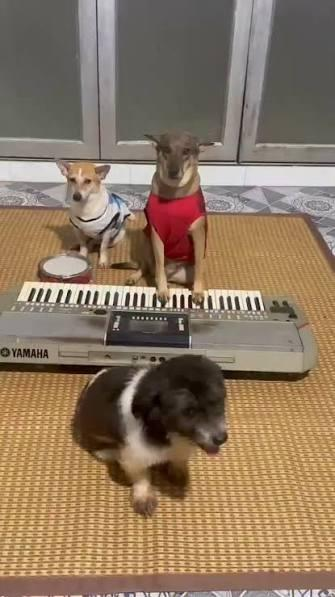adult_dog: (125, 131, 221, 306), (57, 160, 141, 270)
puppy-dog: (72, 355, 230, 516)
